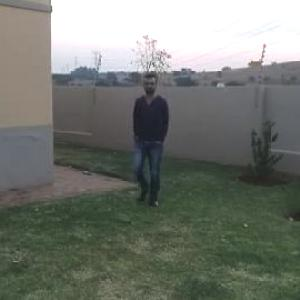follow: (127, 72, 170, 201)
